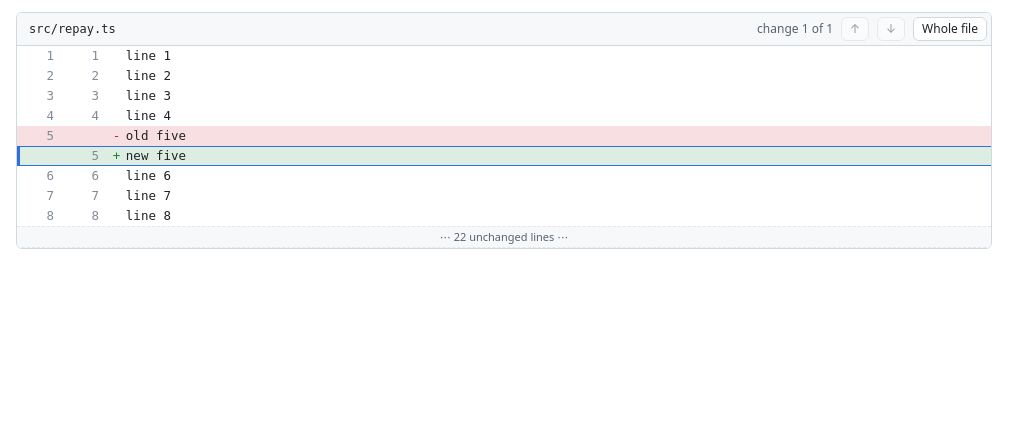
it: CodeView: commenting on lines › a comment refused because the tour changed shows why and keeps the text
Expected: the text "new five" is shown, top-left (126, 148), bottom-right (186, 163)
Click the button "5" next to "new five": (84, 156) top-left (62, 146), bottom-right (107, 166)
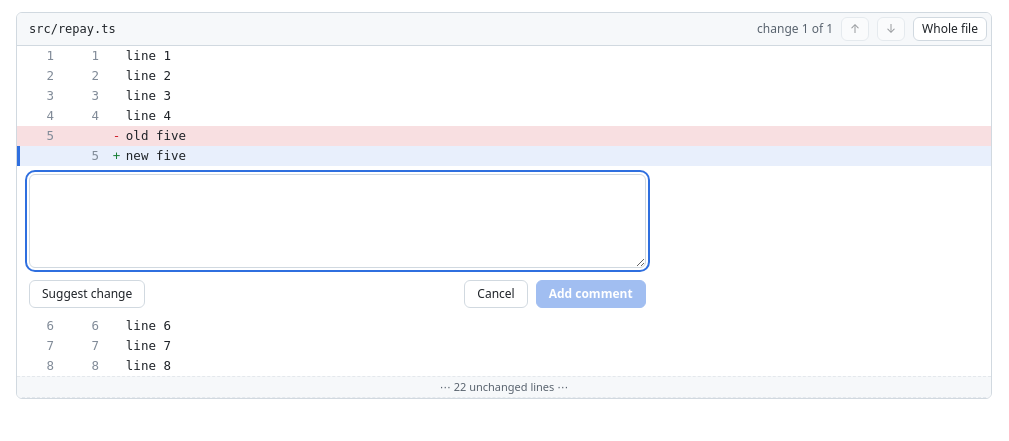
In the text box named "Comment on src/repay.ts": (337, 221) top-left (29, 174), bottom-right (646, 268), type "Looks off"
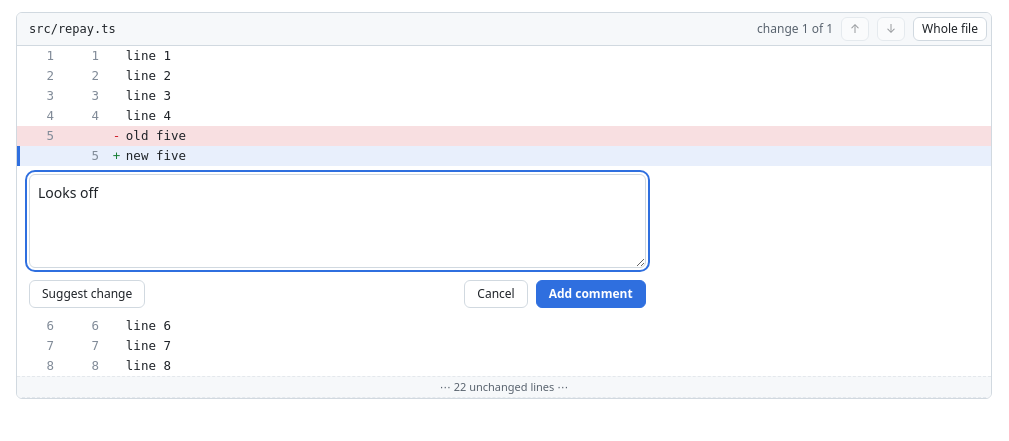
Click the button "Add comment": (591, 294) top-left (536, 280), bottom-right (646, 308)
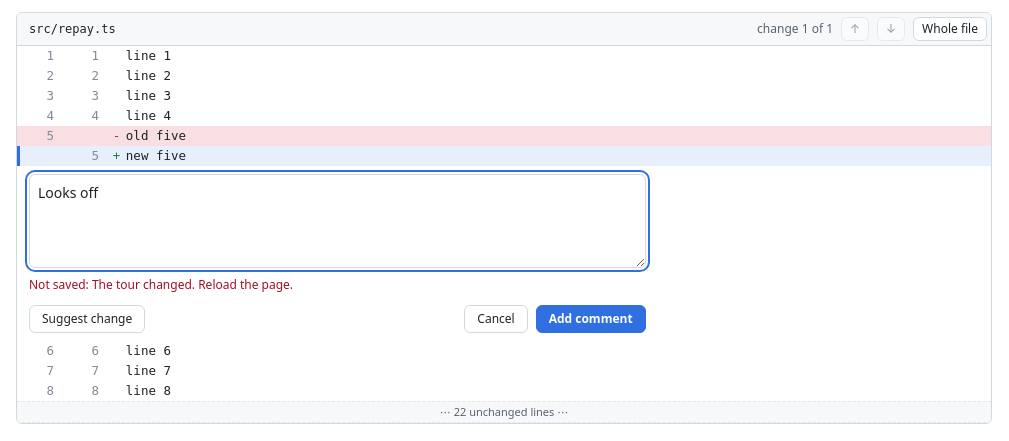
Now the message reads "Not saved: The tour changed. Reload the page.", box top-left (29, 276), bottom-right (293, 293)
